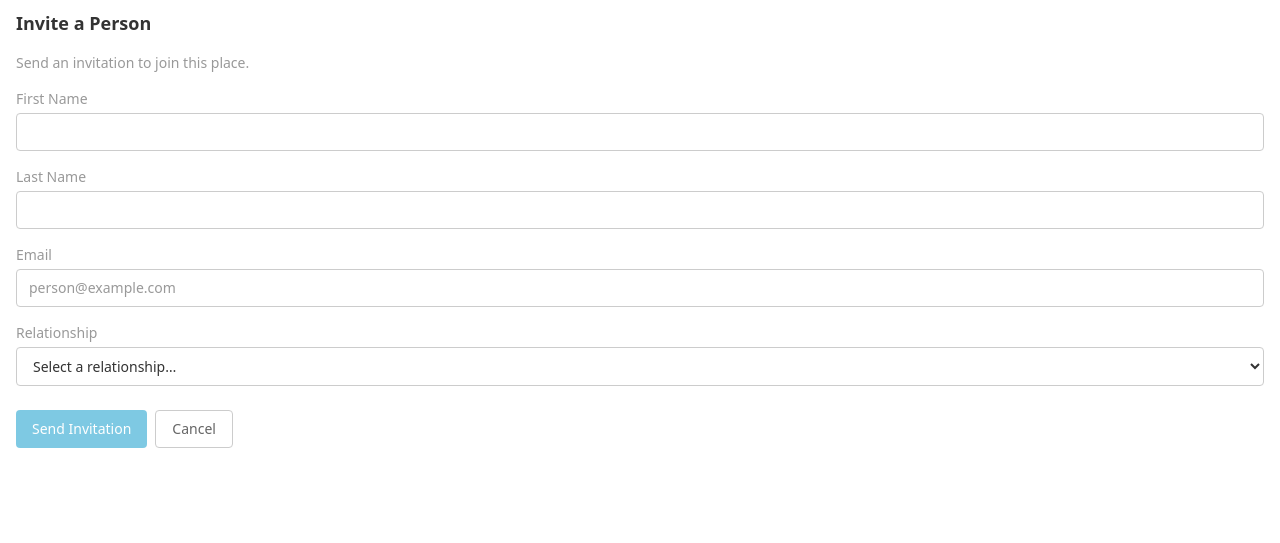
Test: AddPersonPanel – relationship › shows Please Describe field when Other is selected
The image size is (1280, 543).
Check: the field with placeholder "e.g. Property Manager" is not shown
Select "Other" in the dropdown at (640, 366), box x1=16 y1=347 x2=1264 y2=386
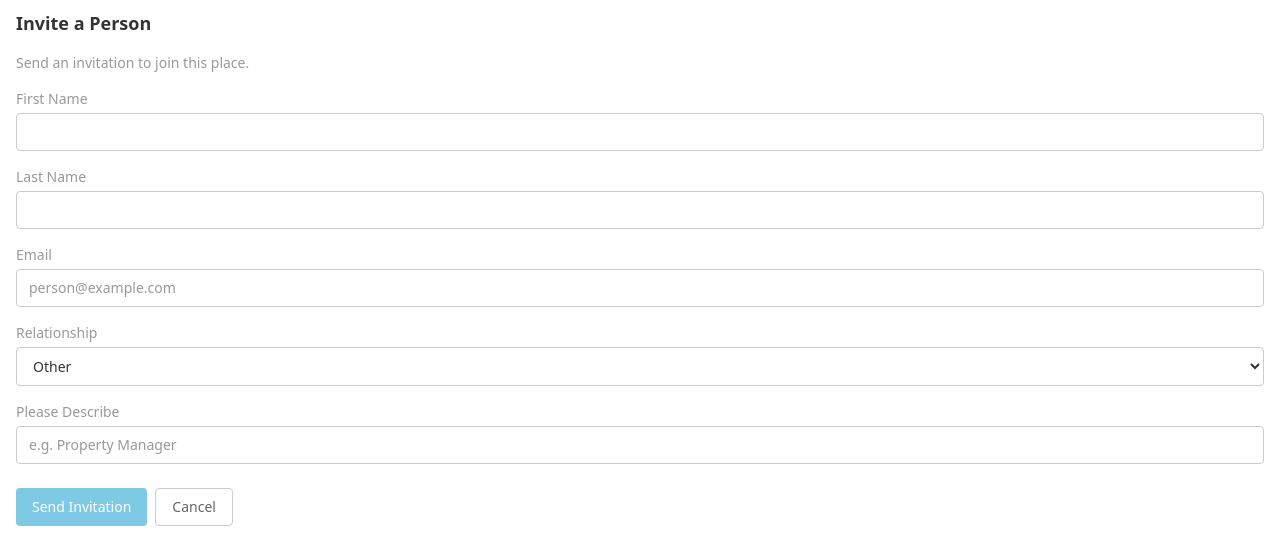
Check: the field with placeholder "e.g. Property Manager" is shown, box x1=16 y1=426 x2=1264 y2=464
